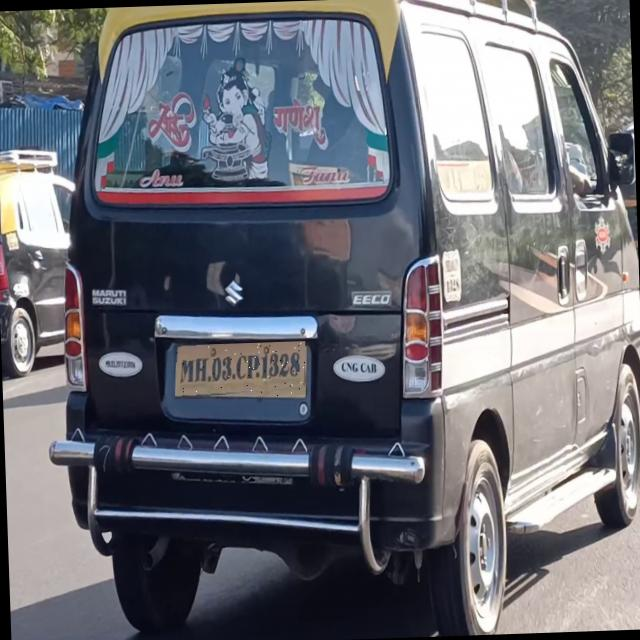Plate: (174, 342, 308, 401)
